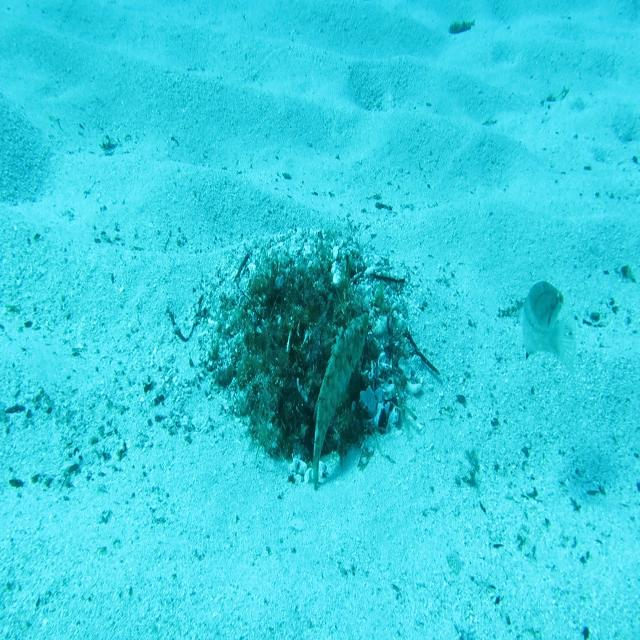LF: (310, 305, 372, 494)
core_nest: (279, 282, 329, 317)
female: (517, 276, 579, 384)
nest: (197, 214, 435, 496)
vegetation: (448, 18, 477, 38)
